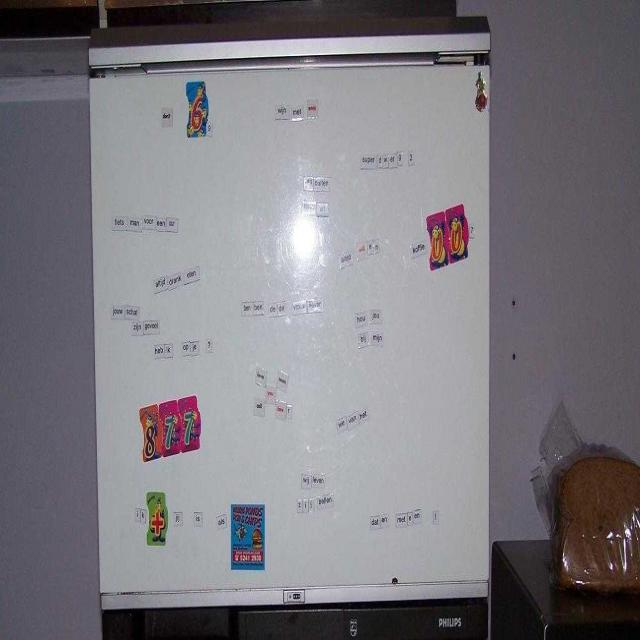refrigerator: (88, 18, 492, 640)
